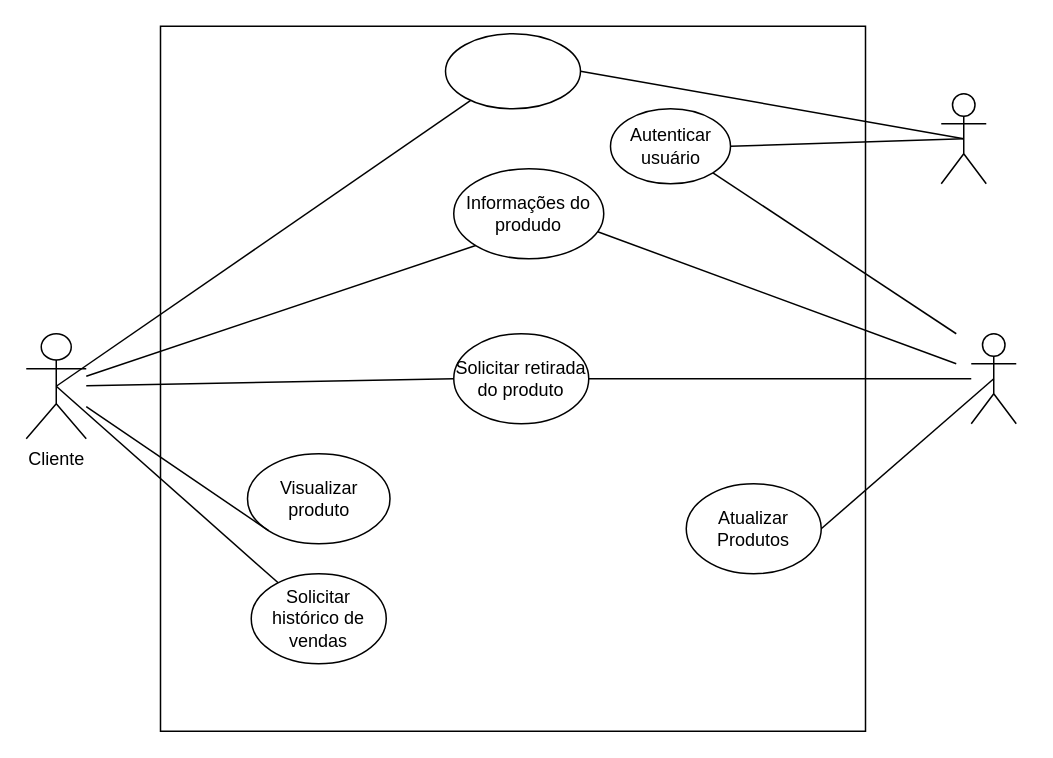
The diagram is 1053 pixels wide and 758 high, and some of its shapes have lost their labels. Here are the shapes that lost their labels. From the top down, the box of each, then its label:
(444, 32, 580, 109): Cadastro
(940, 92, 986, 184): B.D.Dados
(970, 332, 1016, 424): Estoque
